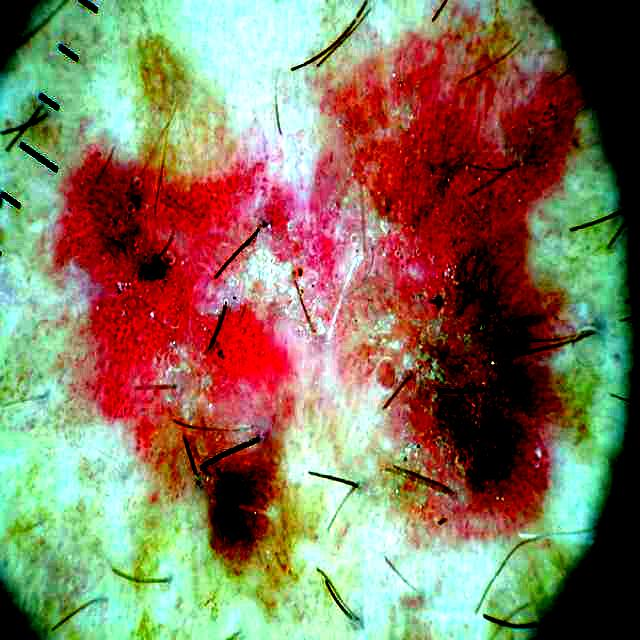AKIEC: (58, 87, 537, 507)
